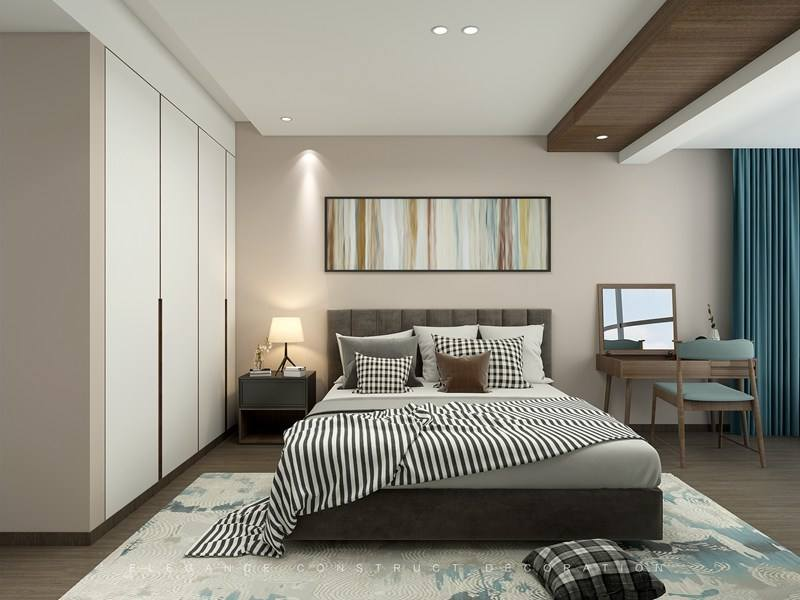床: (269, 385, 656, 555)
枕头: (336, 322, 549, 397)
灯: (263, 316, 306, 377), (298, 141, 324, 175), (429, 23, 454, 39), (461, 23, 485, 38), (277, 112, 297, 126), (595, 132, 616, 145)
